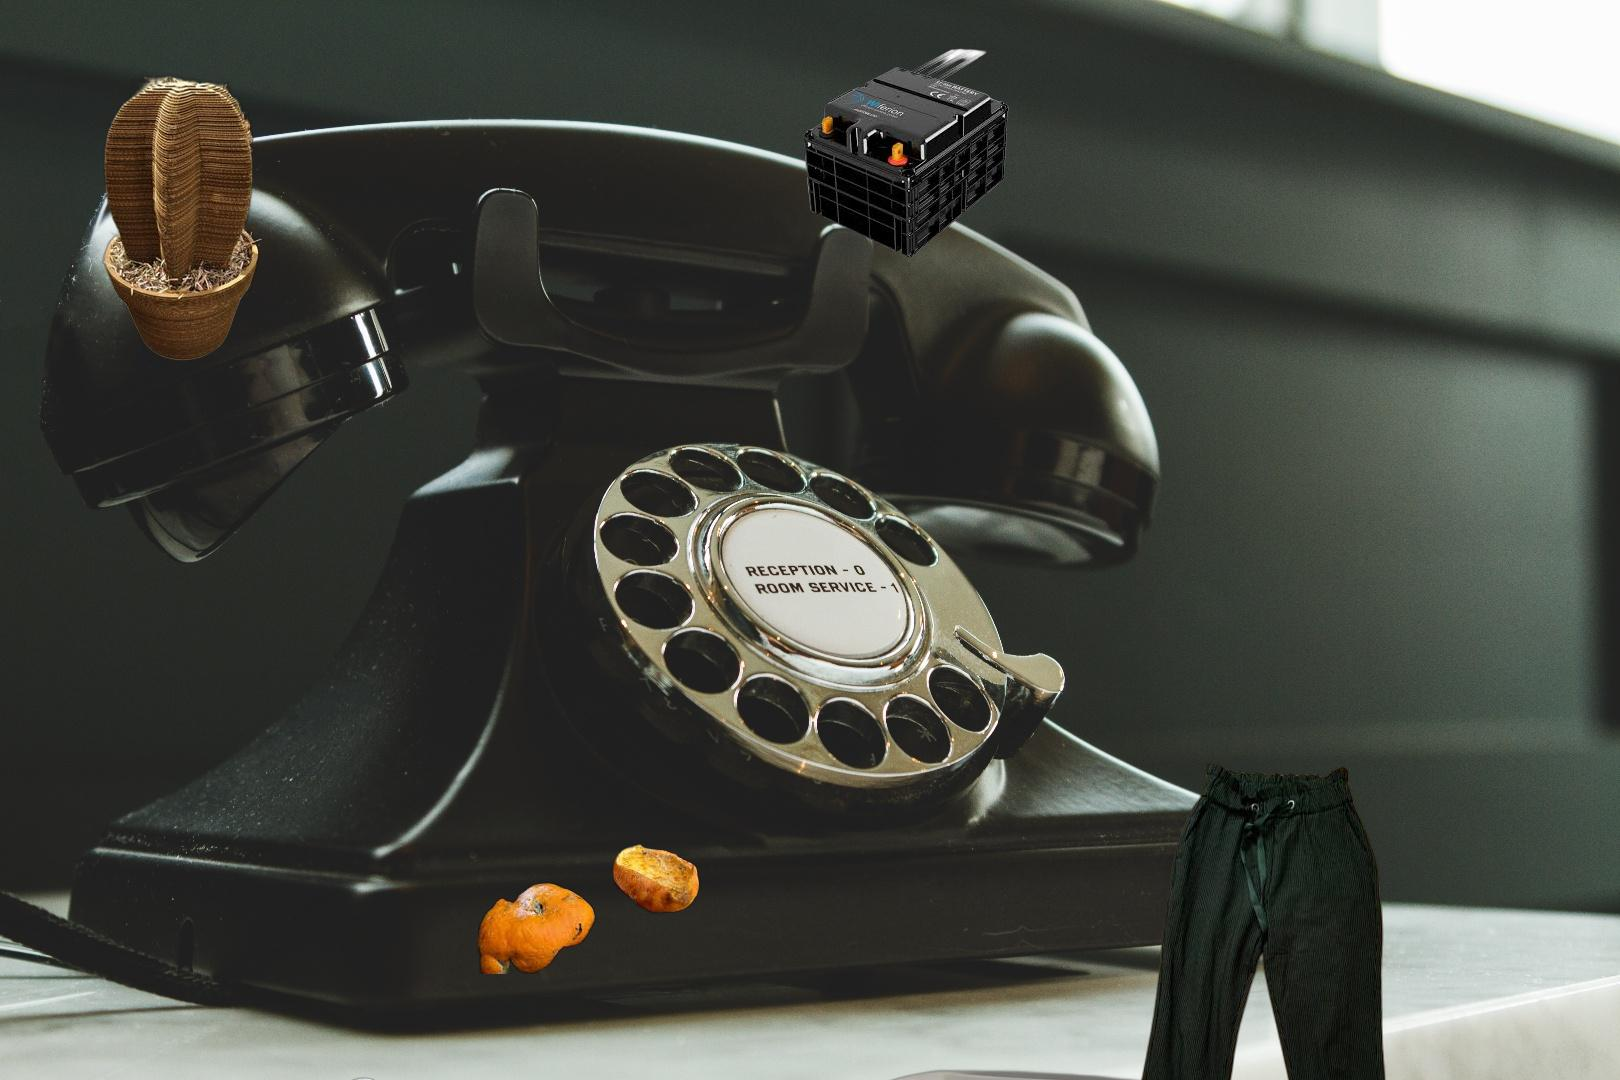battery: (803, 46, 1012, 258)
biological: (479, 843, 714, 974)
clothes: (1110, 755, 1407, 1080)
plastic-bottles: (767, 1067, 1219, 1080)
trash: (230, 1075, 430, 1080)
trashbox-cardboard: (100, 74, 264, 364)
